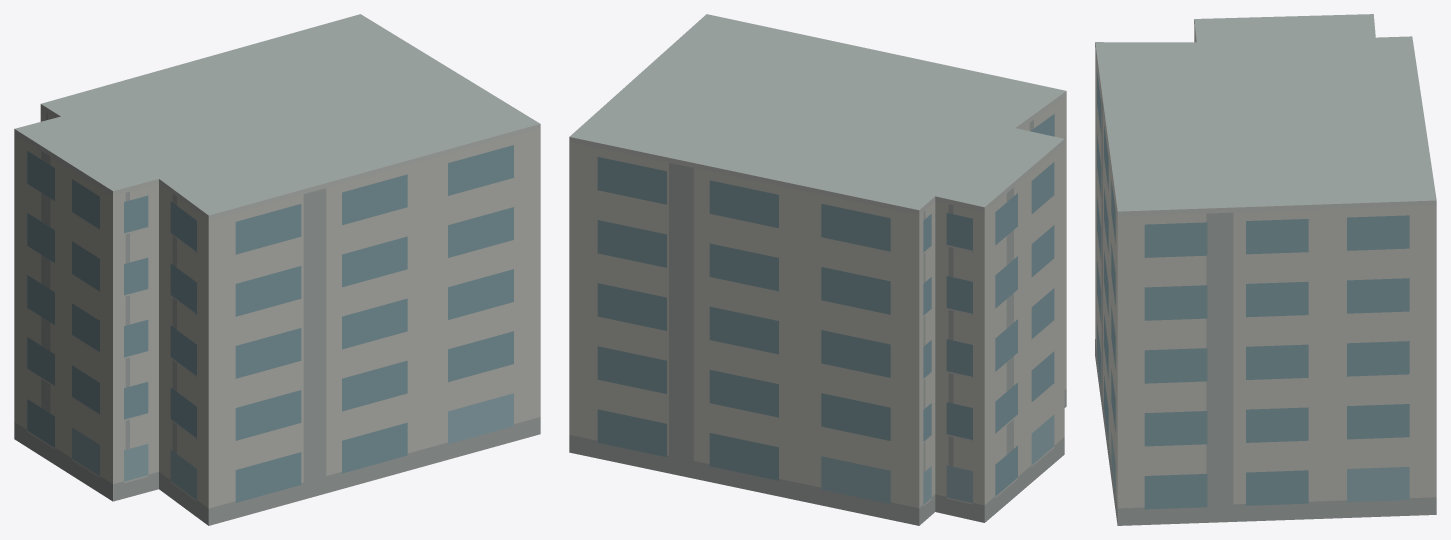
File: survey-upis-32634513.glb
3 views of the same model, side by side, from view 1: azimuth 30°, elevation 25°; view 2: azimuth 150°, elevation 25°; view 3: azimuth 270°, elevation 25° (orthographic).
Visible parts, largest first — view 1: survey-upis-32634513.tmp; view 2: survey-upis-32634513.tmp; view 3: survey-upis-32634513.tmp.
Part boxes in pixels (x1,y1,x2,y2): survey-upis-32634513.tmp: (14, 14, 540, 525); survey-upis-32634513.tmp: (569, 14, 1066, 525); survey-upis-32634513.tmp: (1095, 14, 1436, 525).
Bounding box in the file's own units: 20.57 × 15.25 × 15.03.
